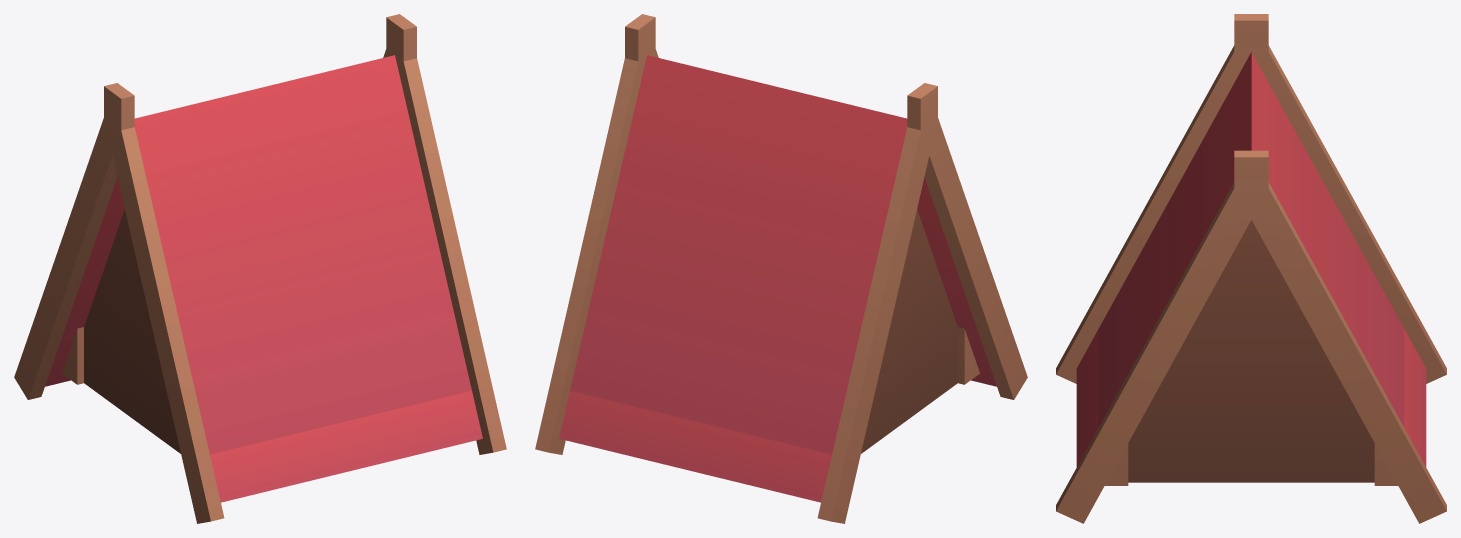
Rendered from kenney-fantasy-town-roof-high-gable-detail.glb.
3 views of the same model, side by side, from view 1: azimuth 30°, elevation 25°; view 2: azimuth 150°, elevation 25°; view 3: azimuth 270°, elevation 25° (orthographic).
Visible parts, largest first — view 1: roof-high-gable-detail; view 2: roof-high-gable-detail; view 3: roof-high-gable-detail.
Boxes of the visible parts, left/top/right/bottom form: roof-high-gable-detail: left=14, top=14, right=506, bottom=523; roof-high-gable-detail: left=535, top=14, right=1027, bottom=523; roof-high-gable-detail: left=1056, top=14, right=1446, bottom=523.
Bounding box in the file's own units: 1.1 × 1.31 × 1.27.
Materials: 1 (1 with a texture image).
